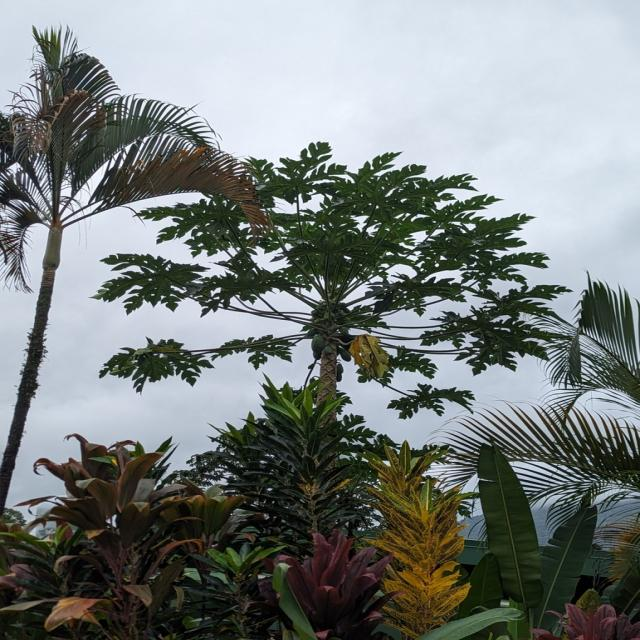Papaya-Tree: (112, 144, 548, 490)
